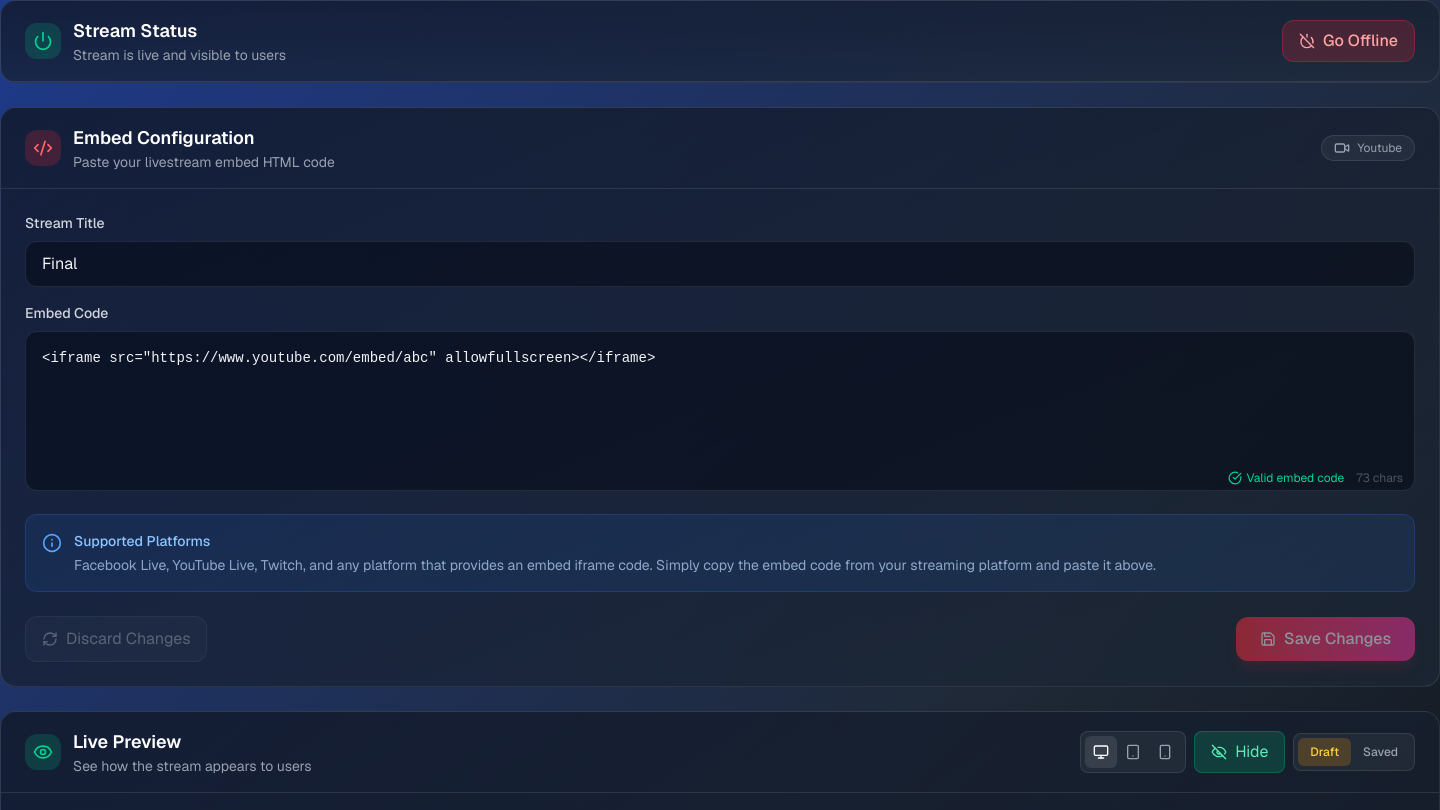
Scenario: LiveStreamManager › saves changes and reports whether the stream is live
Step 1. Replace the text in the field with placeholder "Enter stream title" with "Semi Final" → coordinates (720, 264), box x1=25 y1=241 x2=1415 y2=287
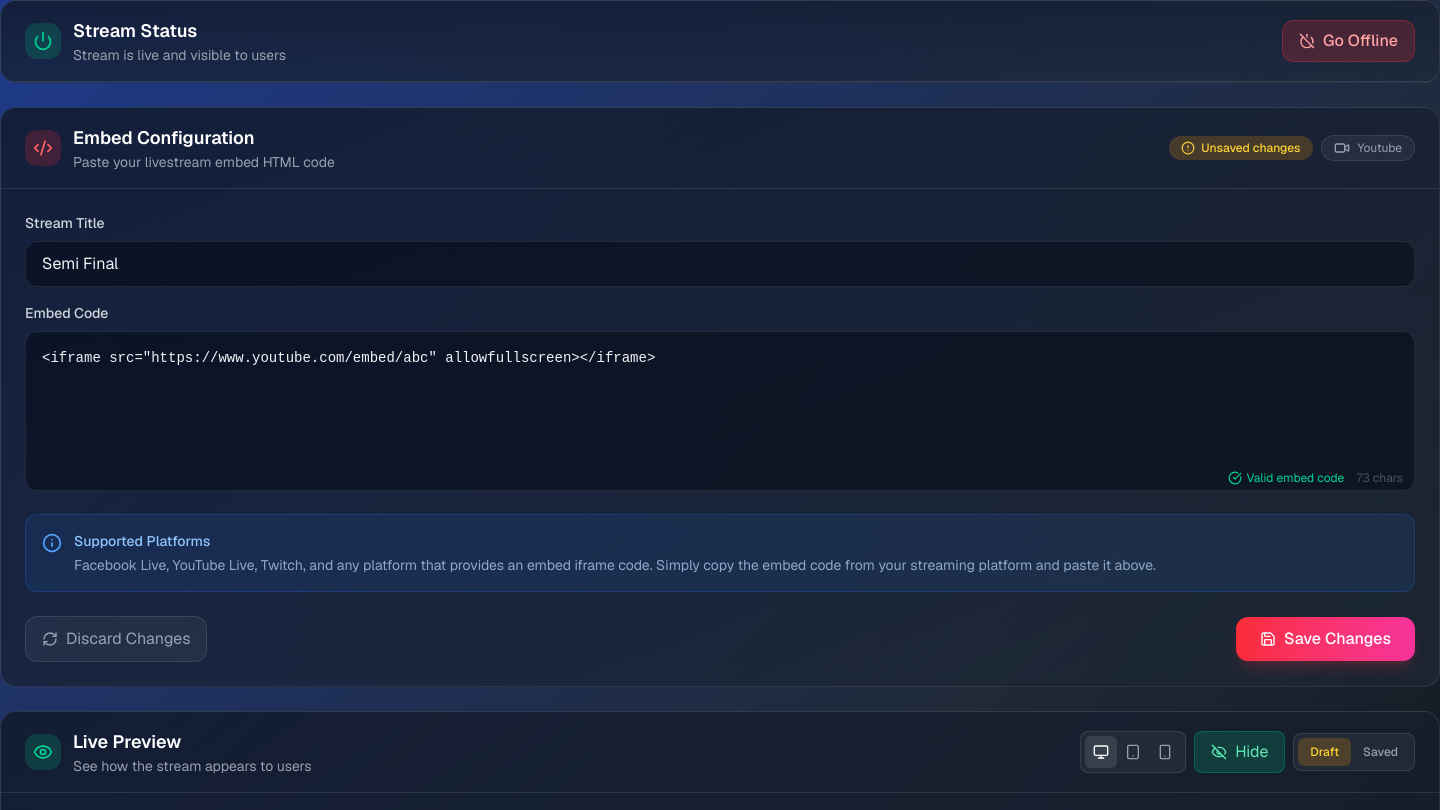
Now the text "Unsaved changes" is shown, box x1=1169 y1=136 x2=1312 y2=160
Step 2. Click the button "Save Changes" → coordinates (1326, 639), box x1=1236 y1=617 x2=1415 y2=661
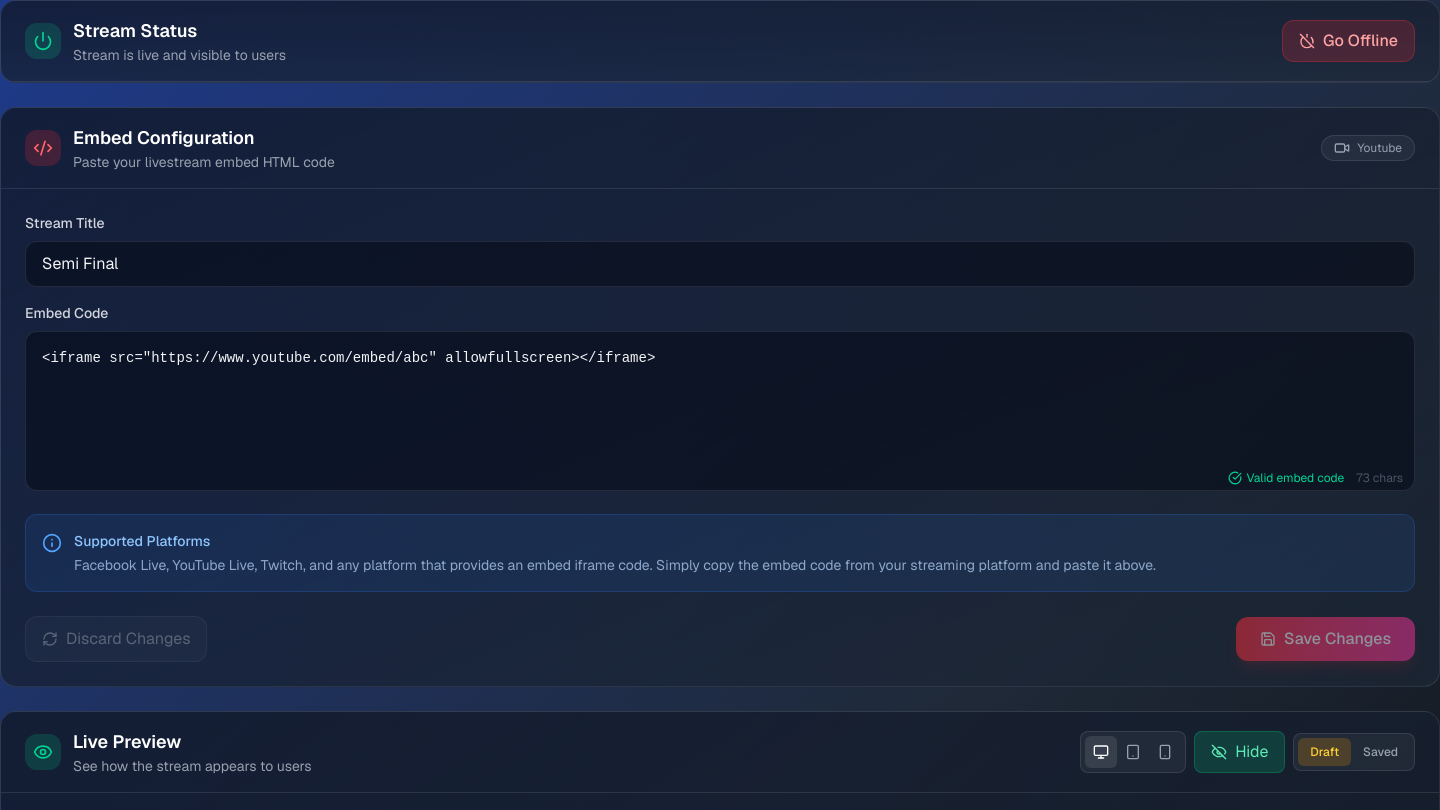
Now the text "Unsaved changes" is gone
